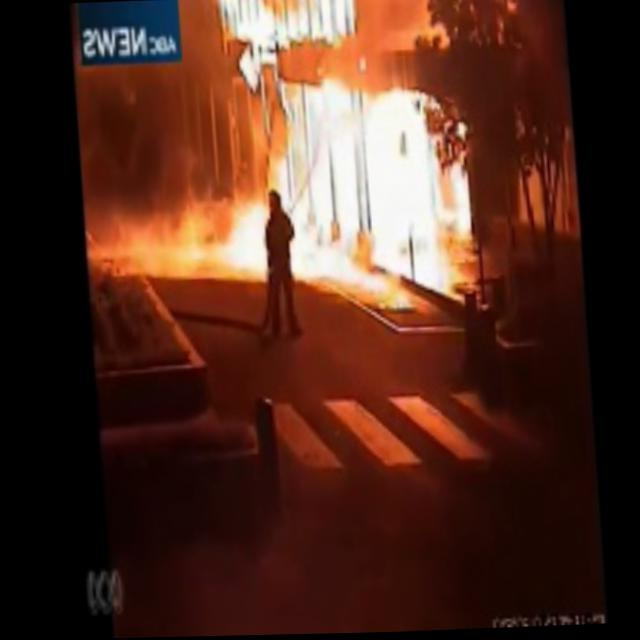fire: (281, 84, 364, 247), (364, 98, 444, 261), (224, 0, 354, 43), (434, 115, 475, 245), (215, 200, 267, 263)
